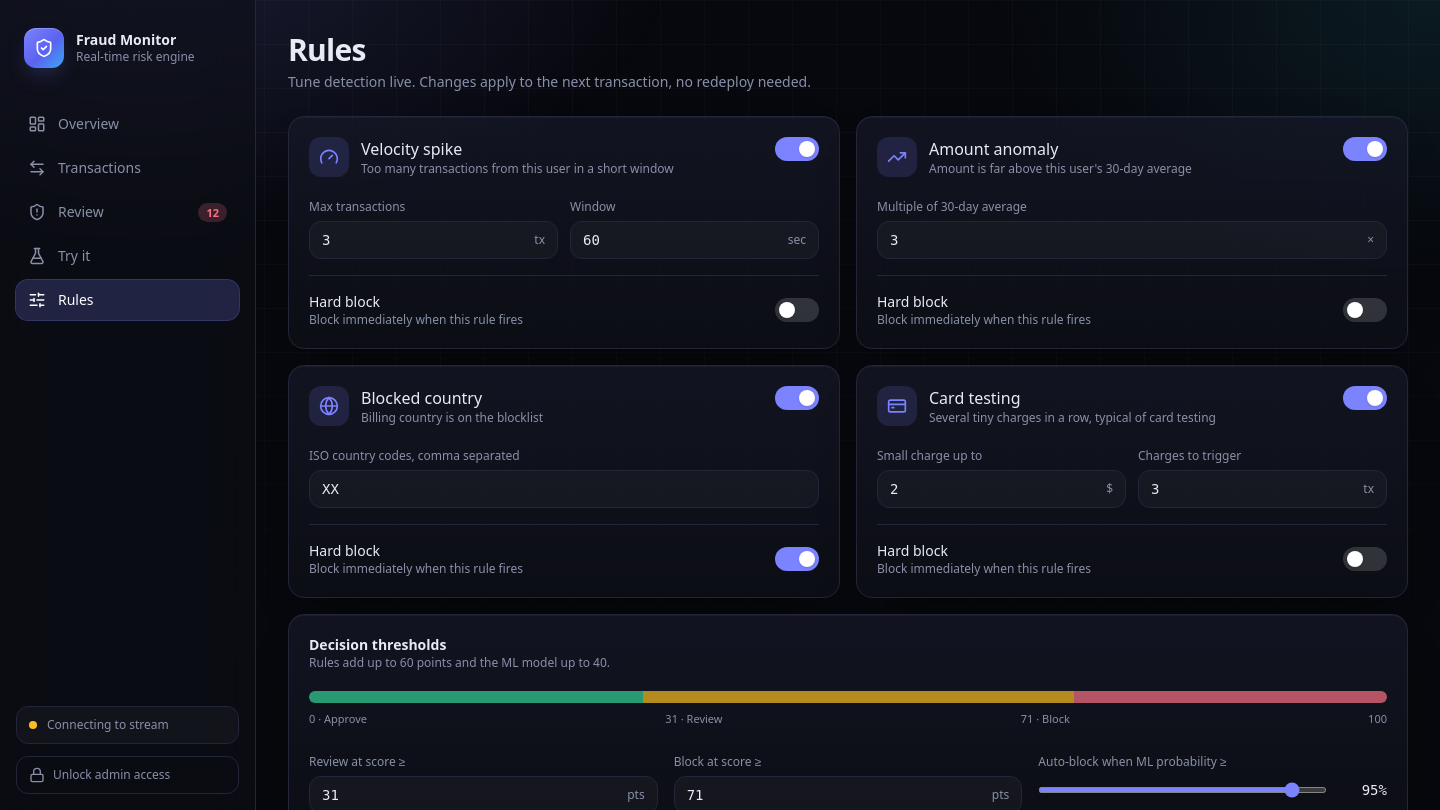
it: dashboard smoke test › shows the unsaved-changes bar after editing a rule
Replace the text in the number field labelled "Max transactions tx" with "9" at (422, 240), box top-left (310, 222), bottom-right (534, 258)
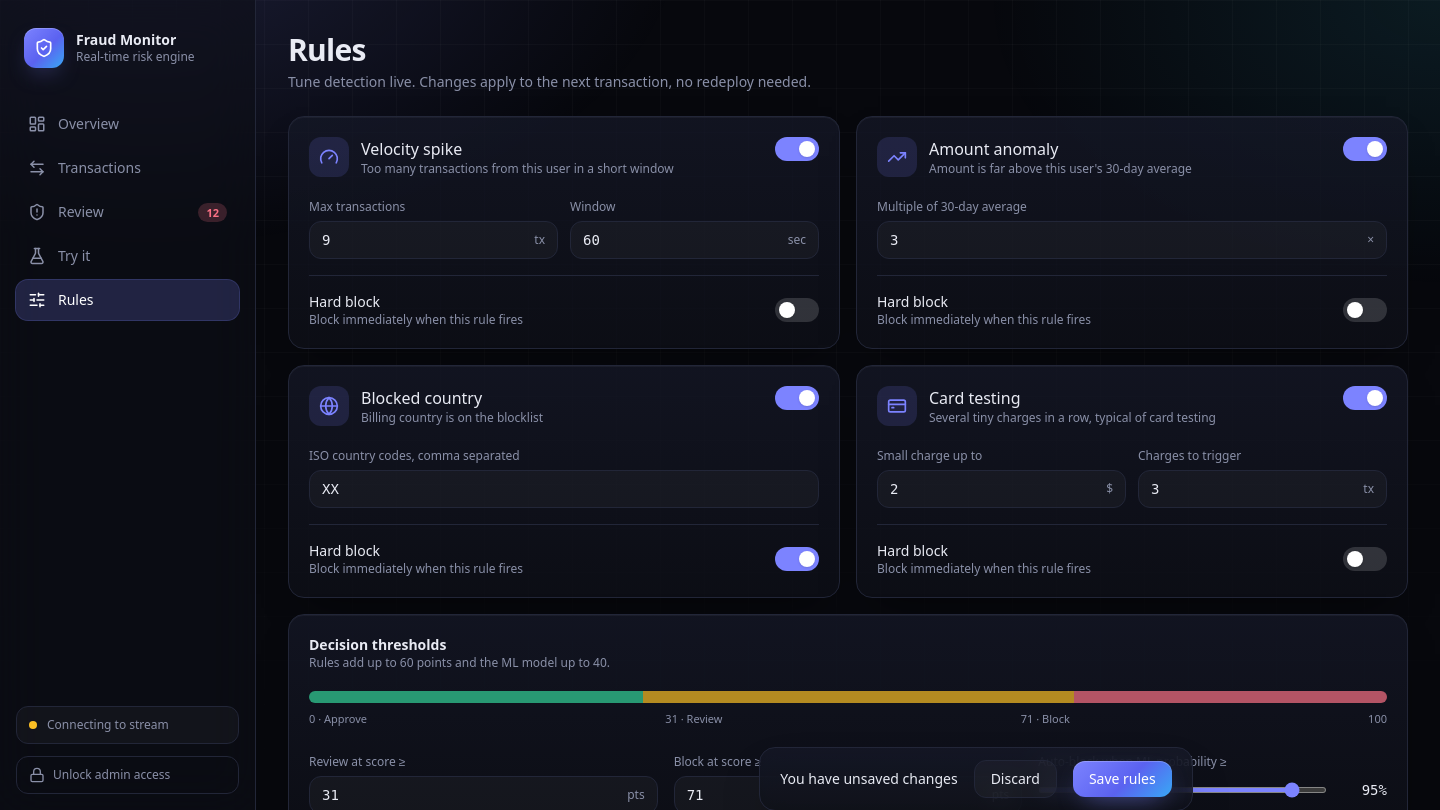
Now the text "You have unsaved changes" is shown, box top-left (780, 768), bottom-right (958, 788)
